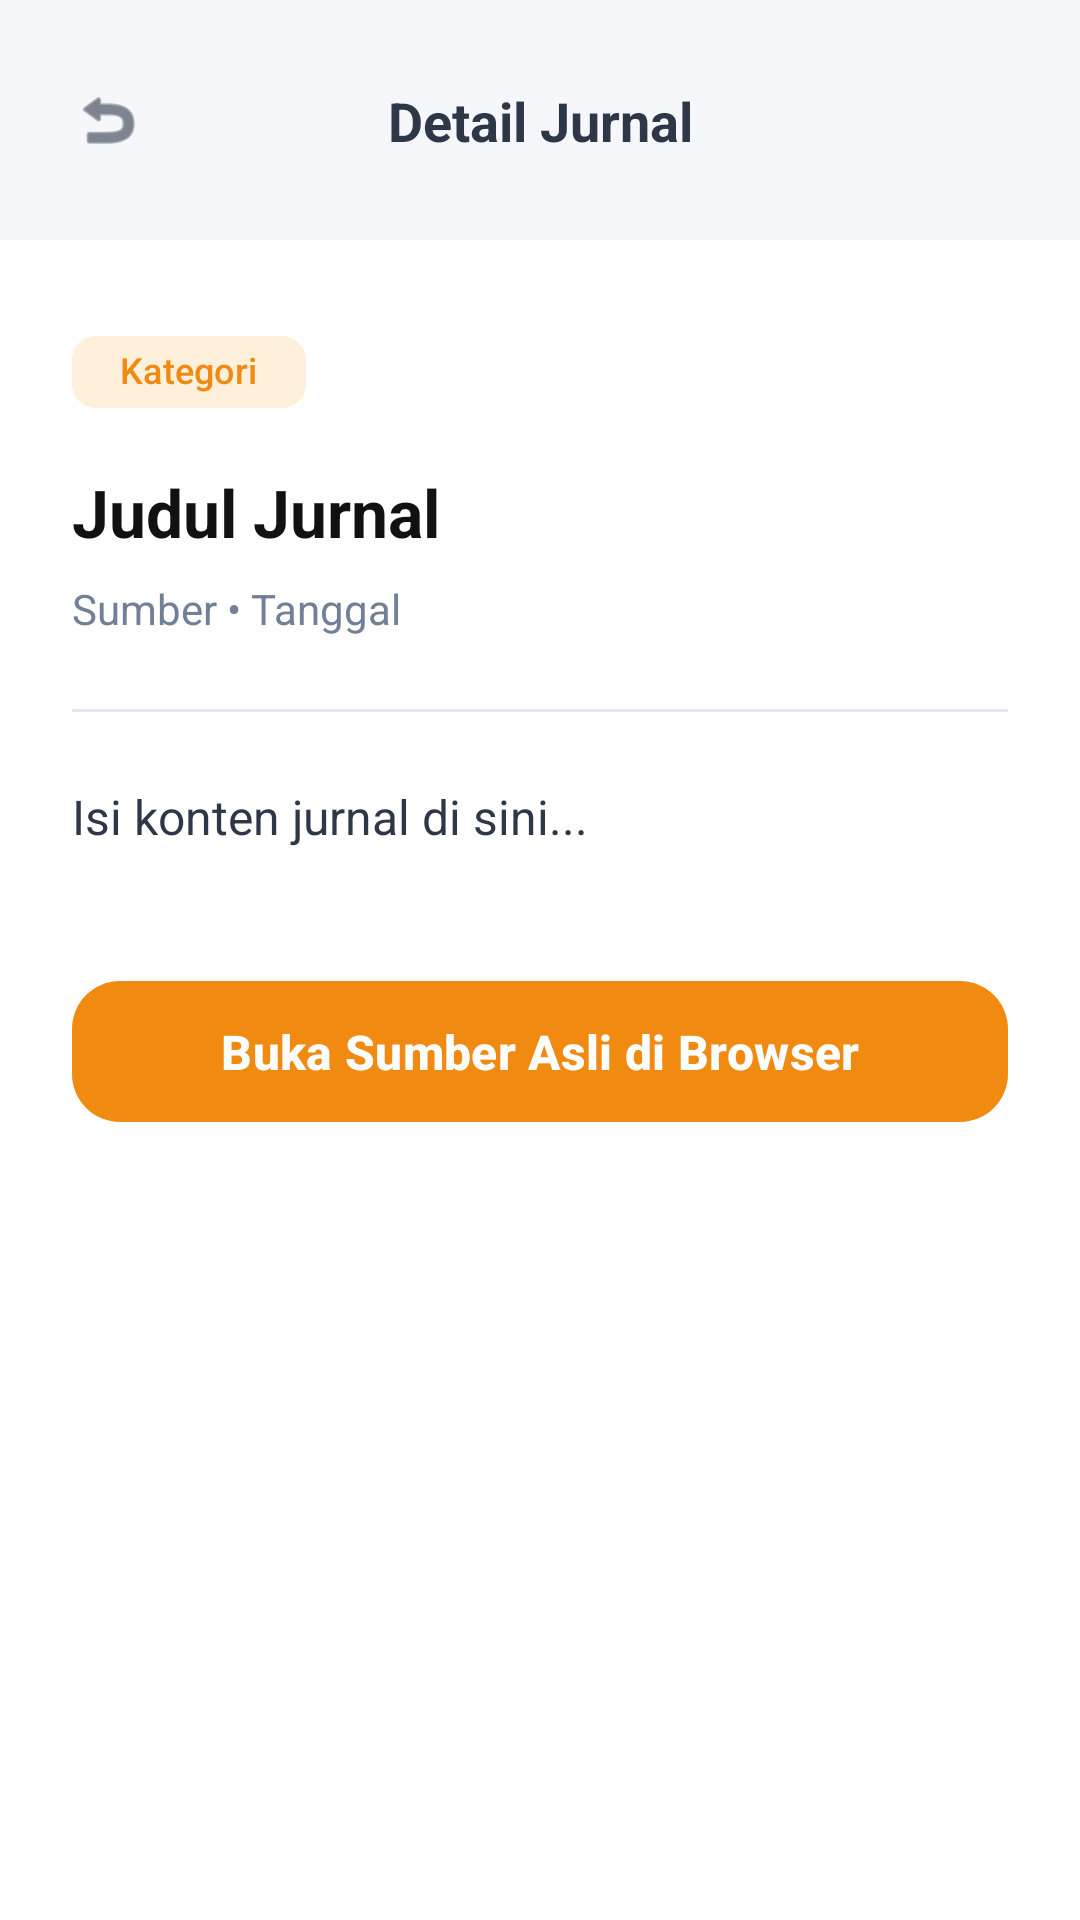

Named icons in this screenshot (1080px x 1920px) and their centers, (x,y):
revert: (109,120)
